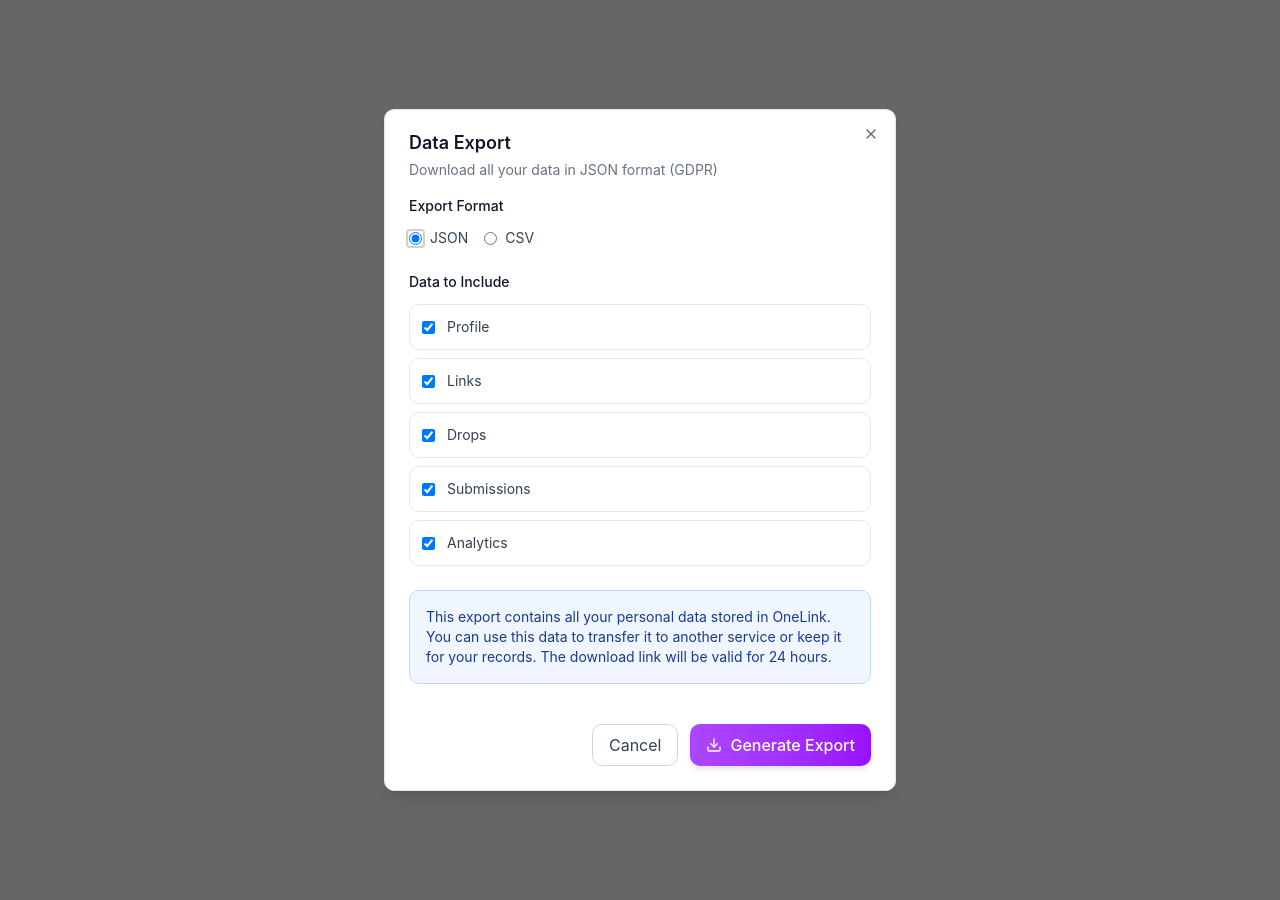
Test: DataExportModal › disables generate button when no data selected
The width and height of the screenshot is (1280, 900).
Click the checkbox labelled "Profile" at (428, 327), box [422, 320, 435, 334]
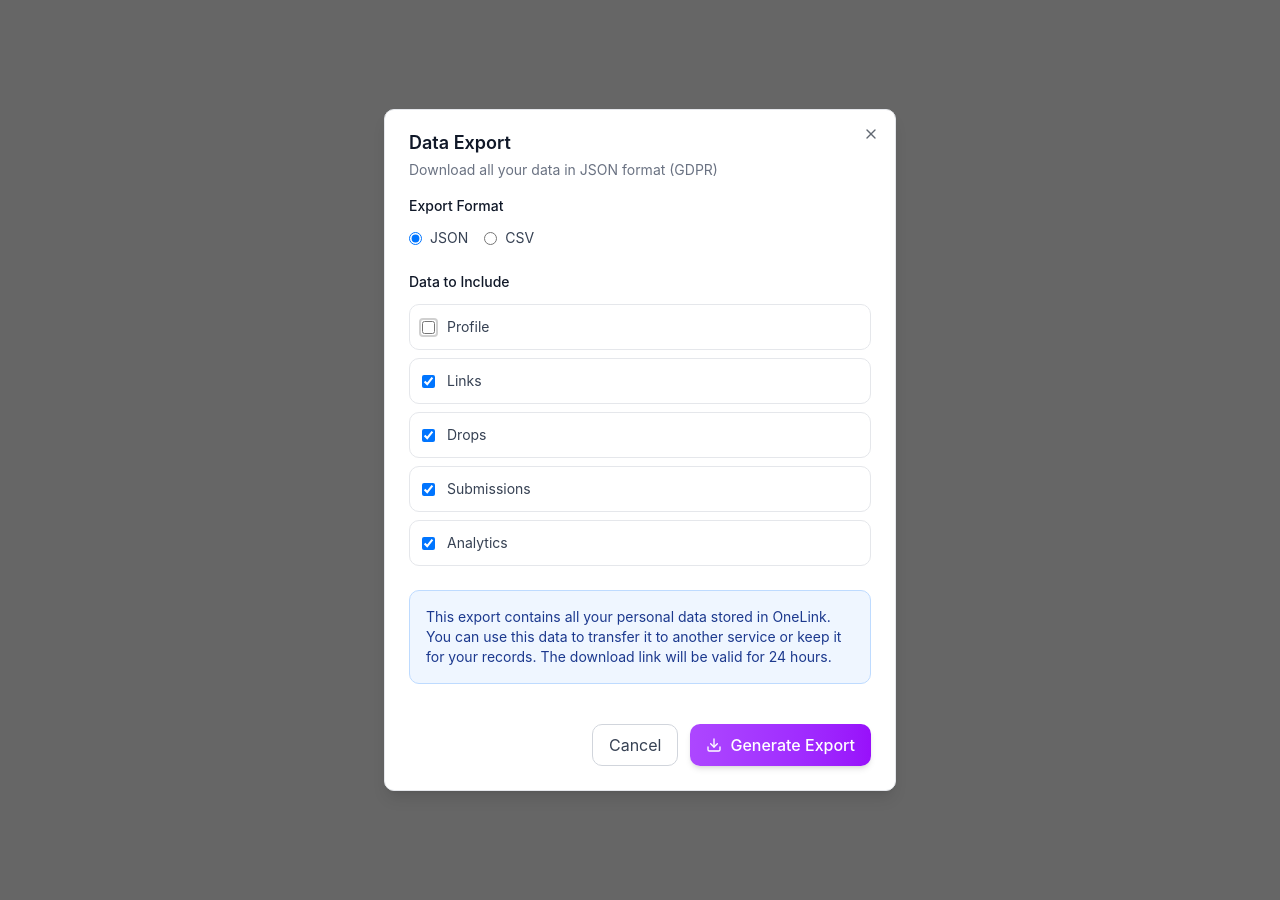
Click the checkbox labelled "Links" at (428, 381), box [422, 374, 435, 388]
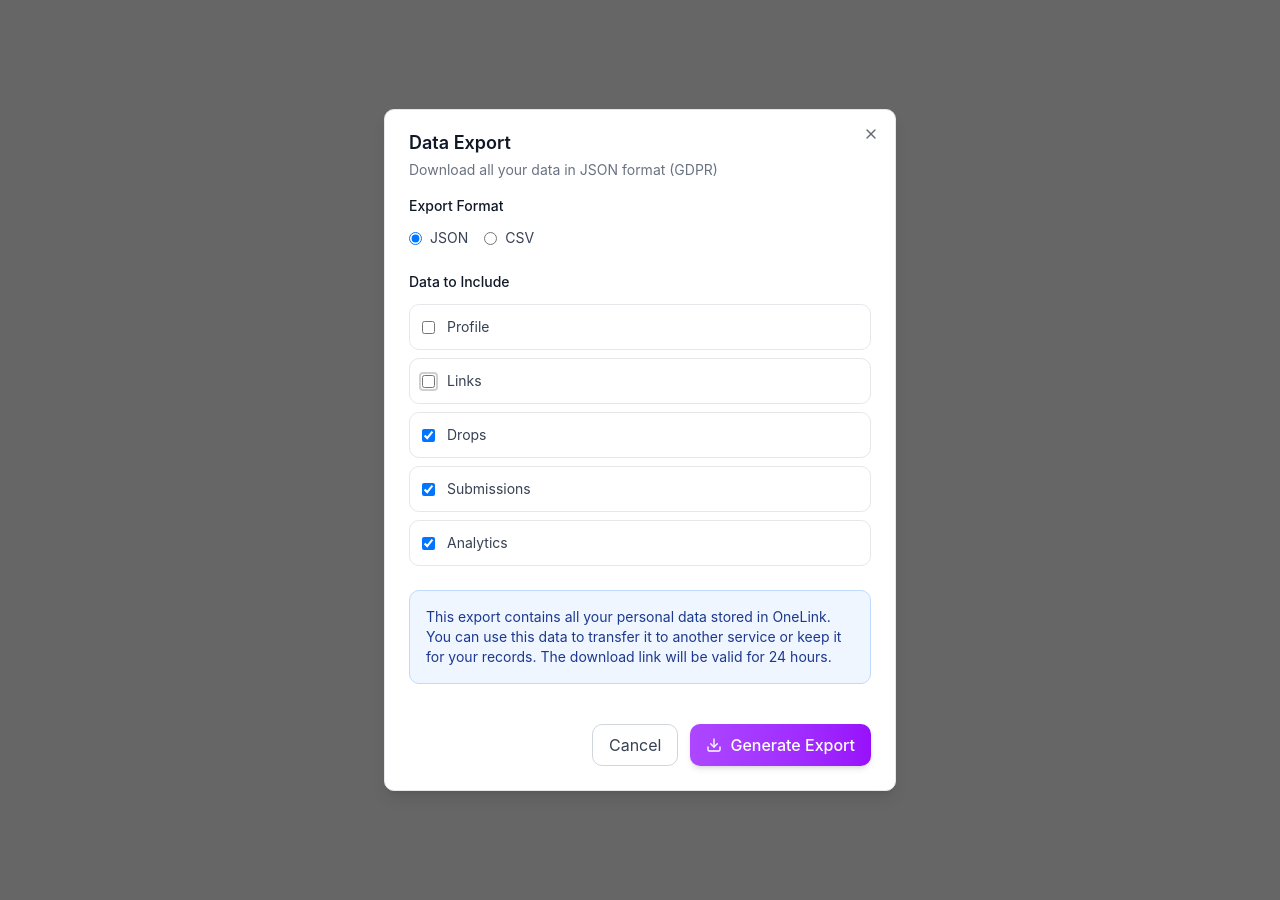
Click the checkbox labelled "Drops" at (428, 435), box [422, 428, 435, 442]
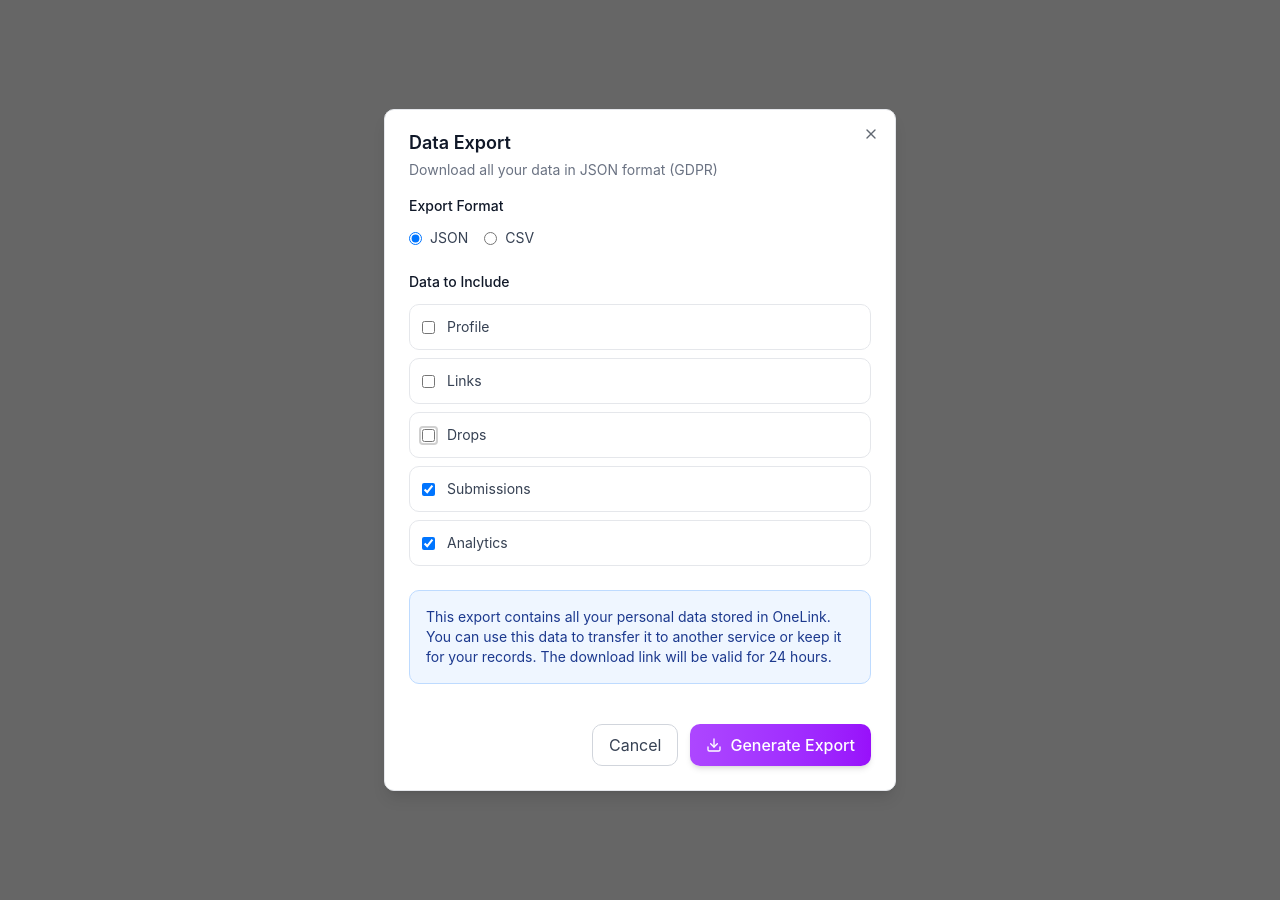
Click the checkbox labelled "Submissions" at (428, 489), box [422, 482, 435, 496]
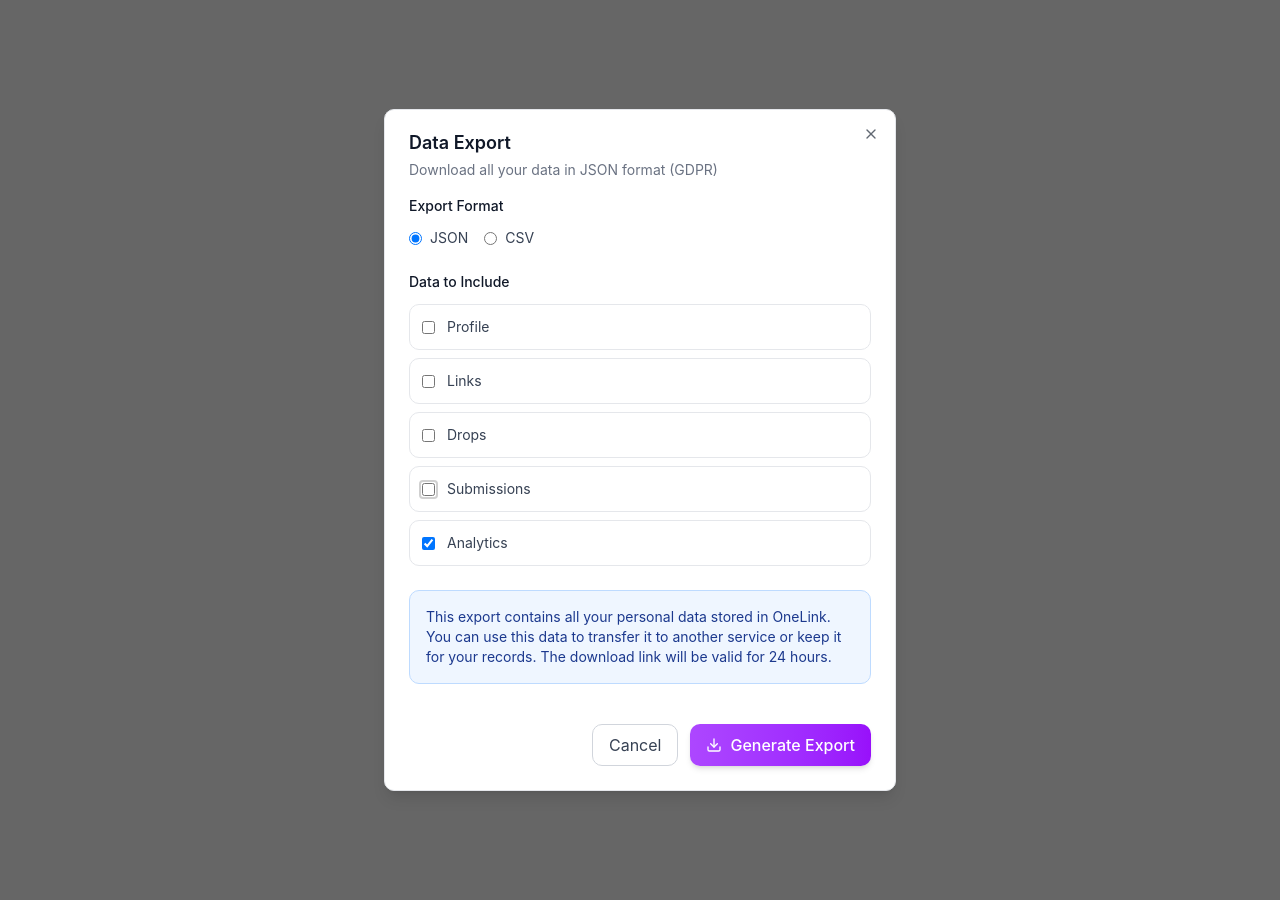
Click the checkbox labelled "Analytics" at (428, 543), box [422, 536, 435, 550]
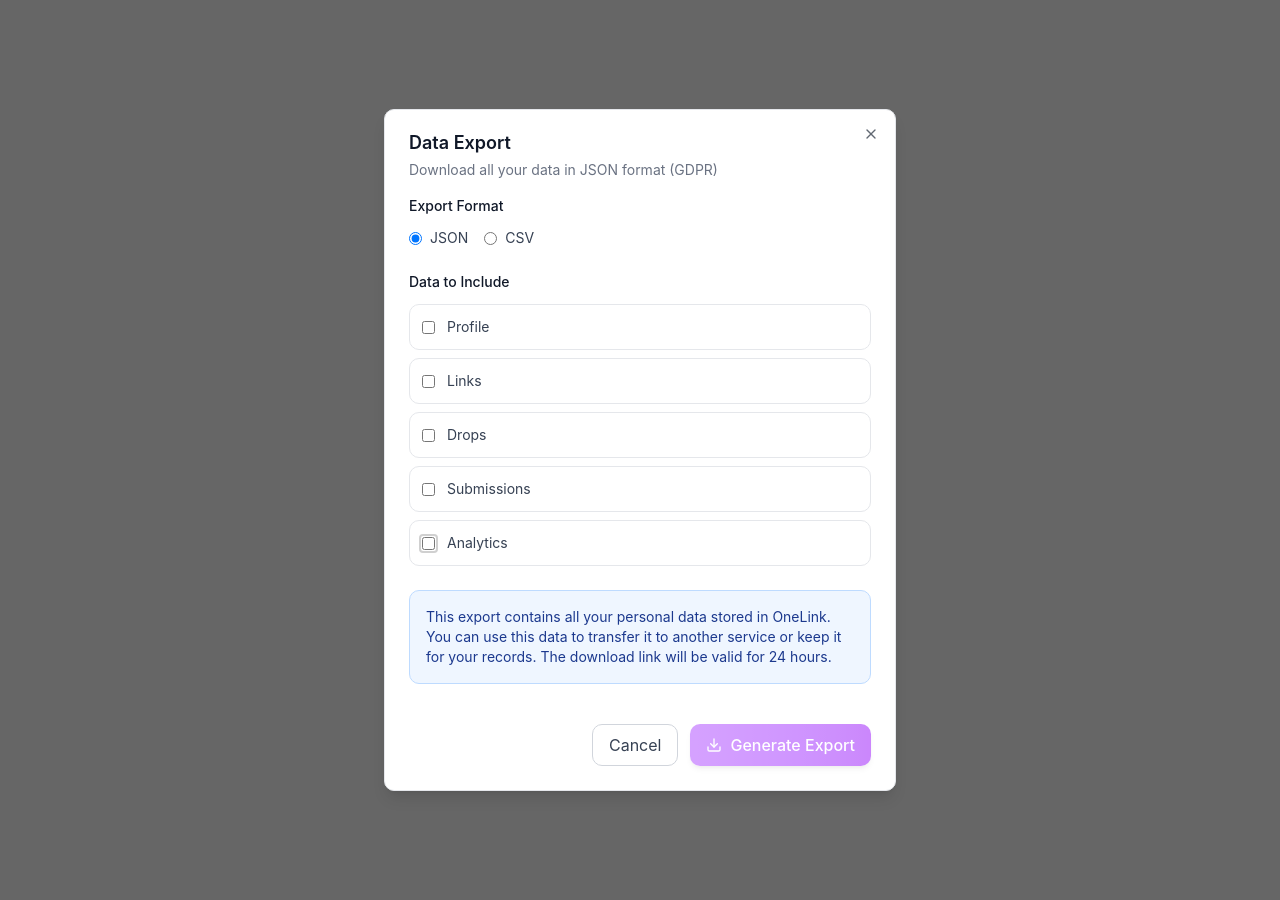
Result: the button "Generate Export" is disabled at [690, 724, 871, 766]
